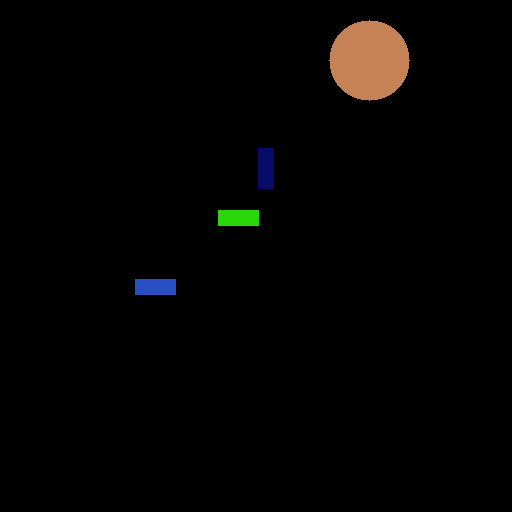circle: (326, 19, 411, 102)
side_rect: (214, 206, 261, 231), (129, 277, 179, 297)
up_rect: (255, 146, 277, 193)
